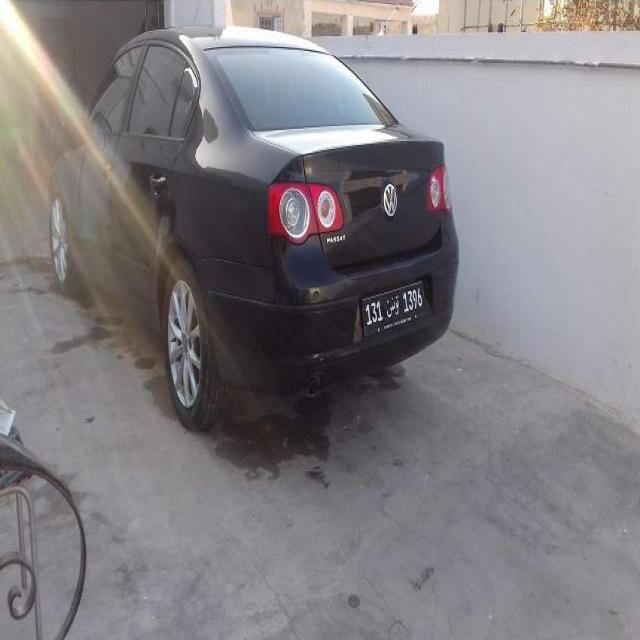licence plate: (363, 284, 424, 330)
